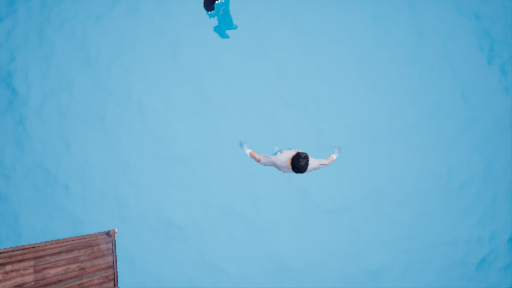person: (240, 137, 340, 177)
